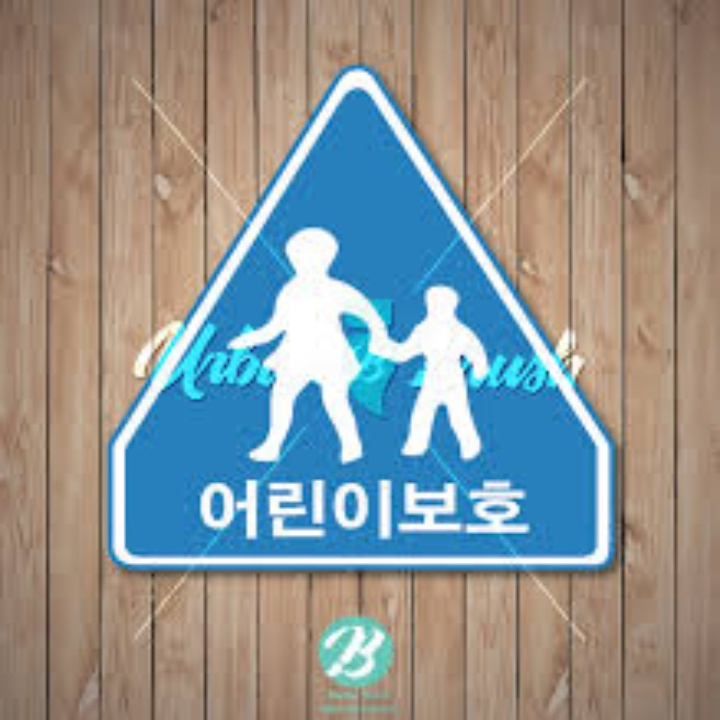child: (213, 181, 531, 499)
